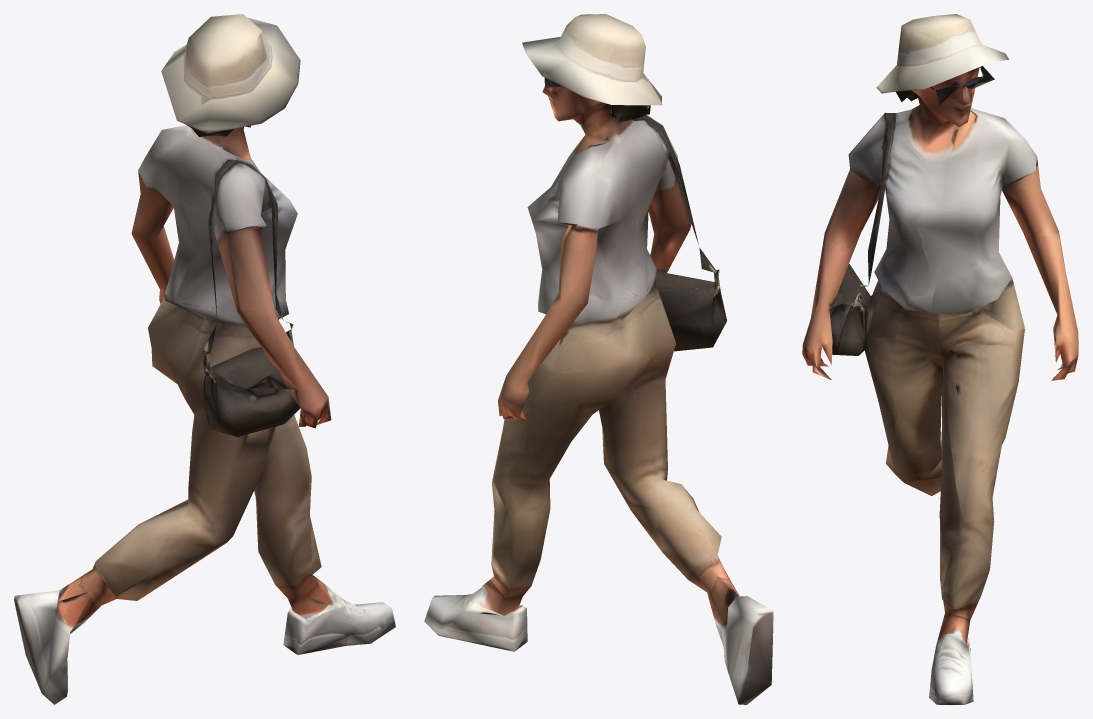
File: besucher_frau.glb
The picture shows the model from 3 angles, left to right: view 1: azimuth 30°, elevation 25°; view 2: azimuth 150°, elevation 25°; view 3: azimuth 270°, elevation 25°; orthographic projection. The views are drawn at different scales.
Visible parts, largest first — view 1: tripo_node_4ce2e877-d83b-4cf1-b20d-7c4ca66b35de; view 2: tripo_node_4ce2e877-d83b-4cf1-b20d-7c4ca66b35de; view 3: tripo_node_4ce2e877-d83b-4cf1-b20d-7c4ca66b35de.
Part boxes in pixels (x1=…): tripo_node_4ce2e877-d83b-4cf1-b20d-7c4ca66b35de: x1=14, y1=14, x2=395, y2=704; tripo_node_4ce2e877-d83b-4cf1-b20d-7c4ca66b35de: x1=424, y1=14, x2=773, y2=704; tripo_node_4ce2e877-d83b-4cf1-b20d-7c4ca66b35de: x1=802, y1=14, x2=1078, y2=704.
Size of the model in its own units: 0.5762 by 0.9949 by 0.4019.
Materials: 1 (1 with a texture image).
